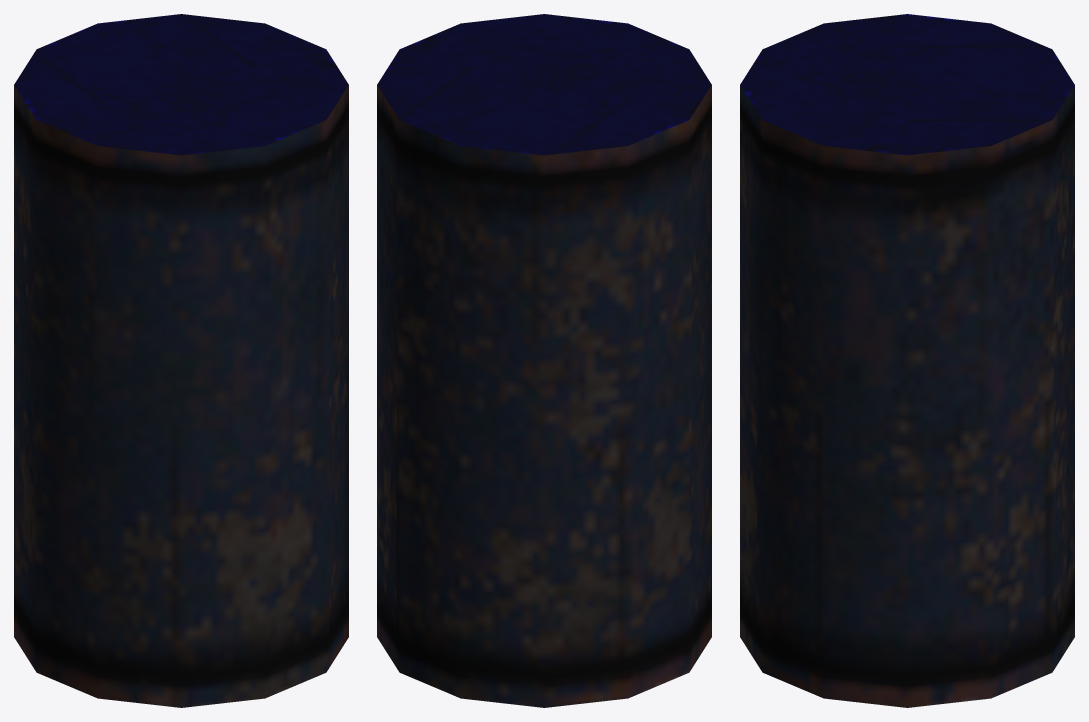
Rendered from barrel.glb.
3 views of the same model, side by side, from view 1: azimuth 30°, elevation 25°; view 2: azimuth 150°, elevation 25°; view 3: azimuth 270°, elevation 25° (orthographic).
Visible parts, largest first — view 1: barrel; view 2: barrel; view 3: barrel.
Part boxes in pixels (x1,y1,x2,y2): barrel: (14,14,348,707); barrel: (377,14,711,707); barrel: (740,14,1074,707).
Size of the model in its own units: 0.6223 by 1.13 by 0.6223.
1 material, 1 textured.
